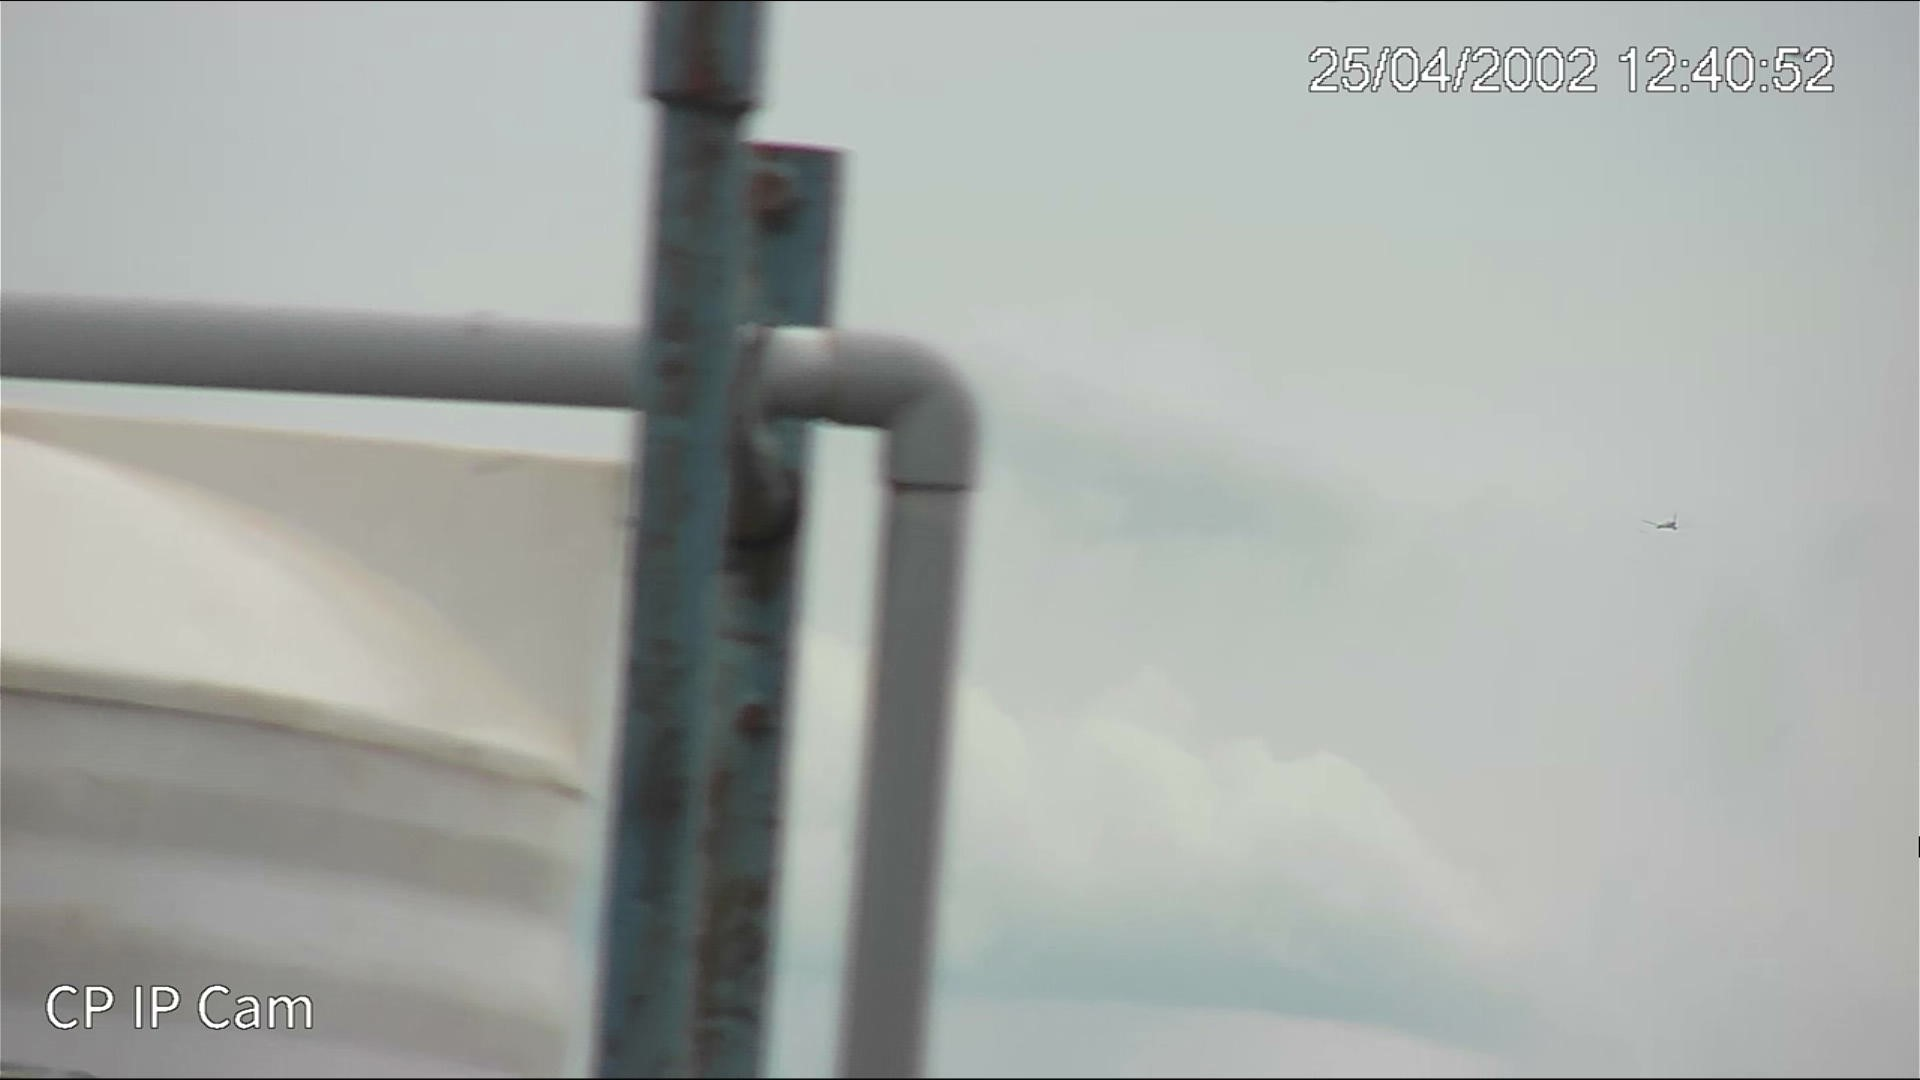SU_30: (1644, 512, 1683, 535)
